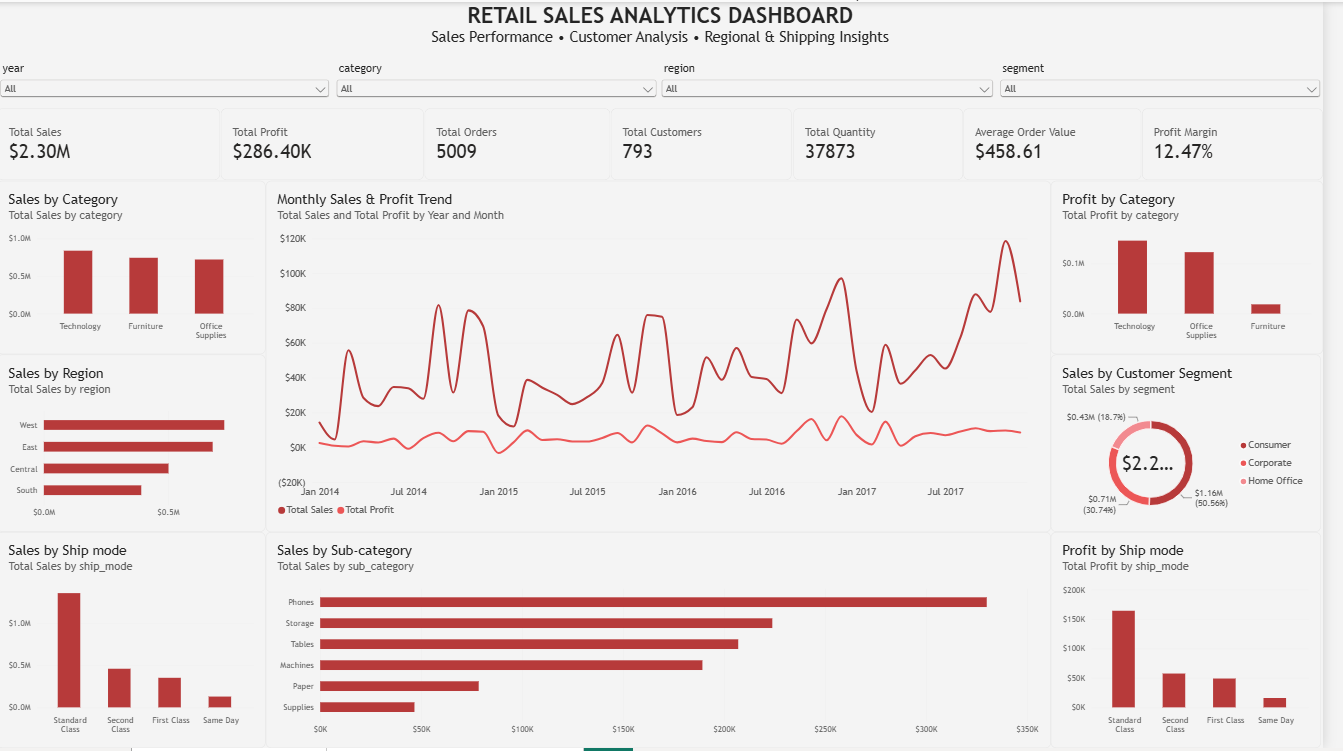

Layout of this report page (visuals, bound fields, positions):
{"tool":"powerbi","page":{"name":"Retail Sales Overview","canvas":[1920,1080],"ordinal":0},"visuals":[{"type":"cardVisual","fields":{"Data":["public superstore.Total Sales"]},"box":[0,153.8,323.9,105],"z":0},{"type":"cardVisual","fields":{"Data":["public superstore.Total Profit"]},"box":[323.9,153.8,295,105],"z":1000},{"type":"cardVisual","fields":{"Data":["public superstore.Total Orders"]},"box":[618.9,153.8,269.6,105],"z":2000},{"type":"cardVisual","fields":{"Data":["public superstore.Total Customers"]},"box":[888.5,153.8,262.4,105],"z":3000},{"type":"cardVisual","fields":{"Data":["public superstore.Total Quantity"]},"box":[1152.8,153.8,246.1,105],"z":4000},{"type":"cardVisual","fields":{"Data":["public superstore.Profit Margin"]},"box":[1657.6,153.8,262.4,105],"z":5000},{"type":"cardVisual","fields":{"Data":["public superstore.Average Order Value"]},"box":[1398.9,153.8,258.8,105],"z":6000},{"type":"lineChart","title":"Monthly Sales & Profit Trend","fields":{"Y":["public superstore.Total Sales","public superstore.Total Profit"],"Category":["public superstore.order_date.Variation.Date Hierarchy.Year","public superstore.order_date.Variation.Date Hierarchy.Month"]},"box":[389.1,258.8,1136.5,508.5],"z":7000},{"type":"clusteredColumnChart","title":"Sales by Category","fields":{"Category":["public superstore.category"],"Y":["public superstore.Total Sales"]},"box":[0,258.8,389.1,251.5],"z":8000},{"type":"clusteredColumnChart","title":"Profit by Category","fields":{"Category":["public superstore.category"],"Y":["public superstore.Total Profit"]},"box":[1525.5,258.8,394.5,251.5],"z":9000},{"type":"clusteredBarChart","title":"Sales by Region","fields":{"Category":["public superstore.region"],"Y":["public superstore.Total Sales"]},"box":[0,510.3,389.1,257],"z":10000},{"type":"clusteredBarChart","title":"Sales by Sub-category","fields":{"Category":["public superstore.sub_category"],"Y":["public superstore.Total Sales"]},"box":[389.1,767.3,1136.5,313.1],"z":11000},{"type":"donutChart","title":"Sales by Customer Segment","fields":{"Category":["public superstore.segment"],"Y":["public superstore.Total Sales"]},"box":[1525.5,510.3,390.9,257],"z":12000},{"type":"clusteredColumnChart","title":"Sales by Ship mode","fields":{"Y":["public superstore.Total Sales"],"Category":["public superstore.ship_mode"]},"box":[0,767.3,389.1,313.1],"z":13000},{"type":"clusteredColumnChart","title":"Profit by Ship mode","fields":{"Category":["public superstore.ship_mode"],"Y":["public superstore.Total Profit"]},"box":[1525.5,767.3,390.9,313.1],"z":14000},{"type":"slicer","fields":{"Values":["public superstore.year"]},"box":[0,86.2,486.1,67.9],"z":15000},{"type":"slicer","fields":{"Values":["public superstore.category"]},"box":[486.1,86.2,473.2,67.9],"z":16000},{"type":"slicer","fields":{"Values":["public superstore.region"]},"box":[957.5,86.2,489.7,67.9],"z":17000},{"type":"slicer","fields":{"Values":["public superstore.segment"]},"box":[1447.2,86.2,473.2,67.9],"z":18000},{"type":"textbox","box":[0,0,1920.1,86.9],"z":19000}]}

Visuals, with their boxes in screenshot pixels (x1, y1, x2, y2), scaled from the page's 1920x1080 canvas onto the 1343x751 screenshot:
cardVisual - public superstore.Total Sales: [left=0, top=107, right=227, bottom=180]
cardVisual - public superstore.Total Profit: [left=227, top=107, right=433, bottom=180]
cardVisual - public superstore.Total Orders: [left=433, top=107, right=621, bottom=180]
cardVisual - public superstore.Total Customers: [left=621, top=107, right=805, bottom=180]
cardVisual - public superstore.Total Quantity: [left=806, top=107, right=979, bottom=180]
cardVisual - public superstore.Profit Margin: [left=1159, top=107, right=1342, bottom=180]
cardVisual - public superstore.Average Order Value: [left=979, top=107, right=1160, bottom=180]
"Monthly Sales & Profit Trend" lineChart: [left=272, top=180, right=1067, bottom=534]
"Sales by Category" clusteredColumnChart: [left=0, top=180, right=272, bottom=355]
"Profit by Category" clusteredColumnChart: [left=1067, top=180, right=1342, bottom=355]
"Sales by Region" clusteredBarChart: [left=0, top=355, right=272, bottom=534]
"Sales by Sub-category" clusteredBarChart: [left=272, top=534, right=1067, bottom=750]
"Sales by Customer Segment" donutChart: [left=1067, top=355, right=1340, bottom=534]
"Sales by Ship mode" clusteredColumnChart: [left=0, top=534, right=272, bottom=750]
"Profit by Ship mode" clusteredColumnChart: [left=1067, top=534, right=1340, bottom=750]
slicer - public superstore.year: [left=0, top=60, right=340, bottom=107]
slicer - public superstore.category: [left=340, top=60, right=671, bottom=107]
slicer - public superstore.region: [left=670, top=60, right=1012, bottom=107]
slicer - public superstore.segment: [left=1012, top=60, right=1342, bottom=107]
textbox: [left=0, top=0, right=1342, bottom=60]
